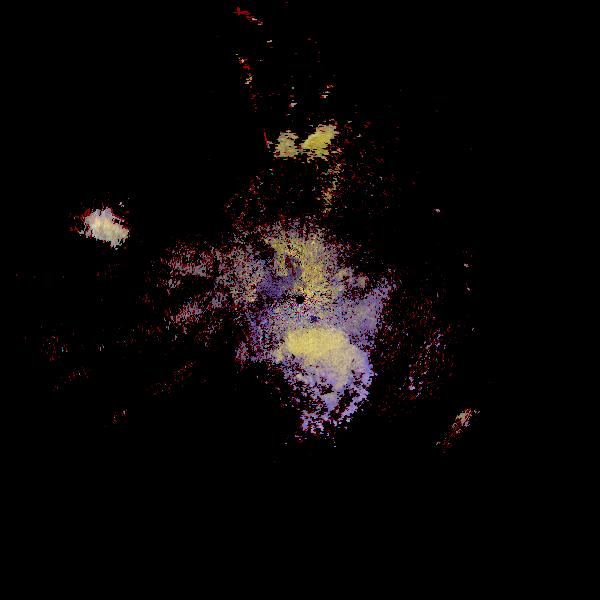roost: (214, 288, 397, 471), (407, 393, 530, 516)
